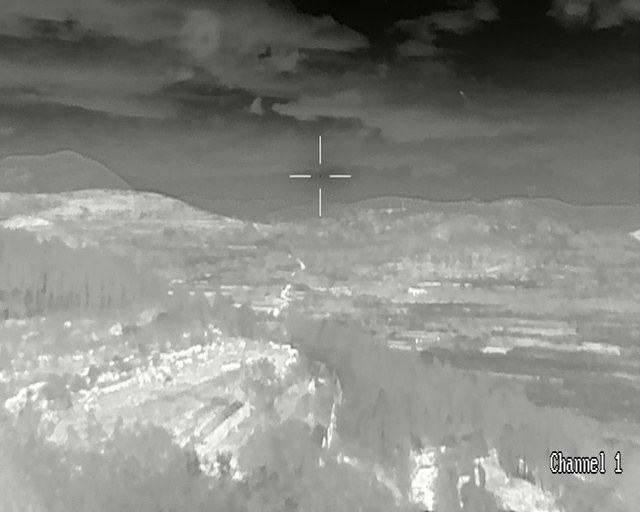uav: (459, 91, 462, 94)
